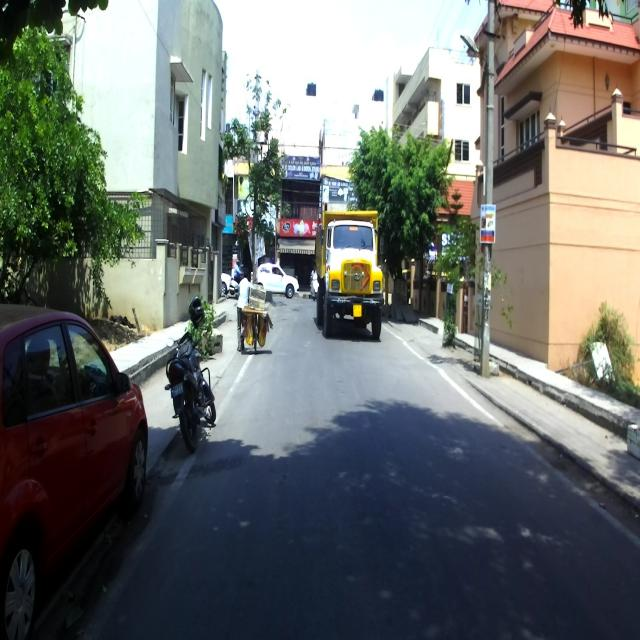Car_Ford: (0, 302, 147, 638)
Car_Maruti-Suzuki: (253, 261, 300, 298)
motorcycle_Hero: (164, 294, 216, 452)
truck: (314, 206, 384, 340)
